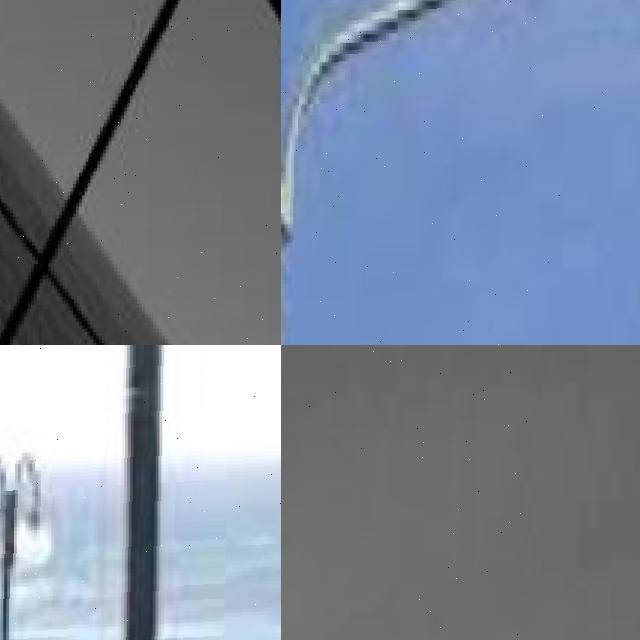street light: (281, 0, 640, 345), (0, 0, 281, 345), (0, 345, 281, 640), (281, 345, 536, 640), (0, 450, 69, 640)
